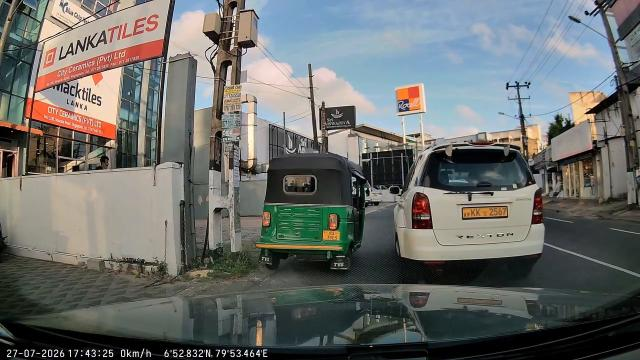illegal overtaking: (251, 142, 375, 277)
number plate: (320, 227, 345, 243)
